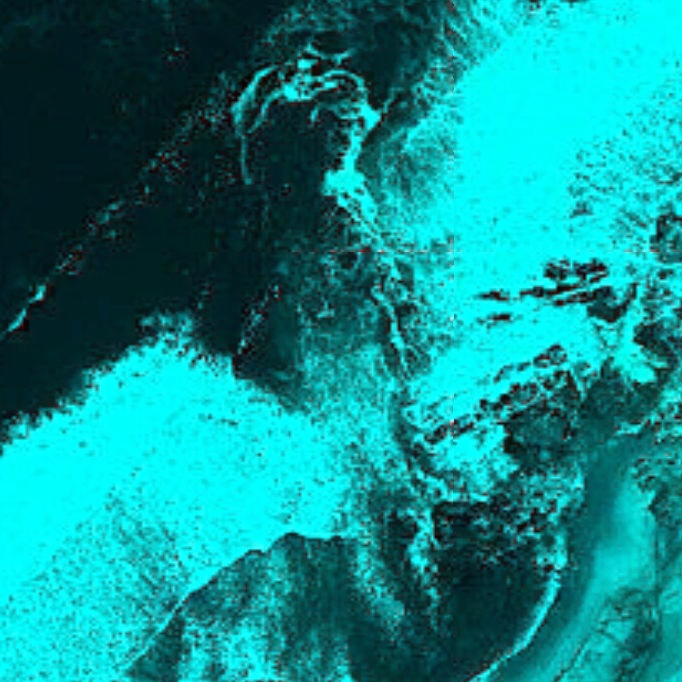rip_current: (116, 51, 443, 410)
